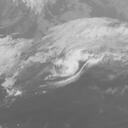cyclone: (36, 28, 87, 86)
